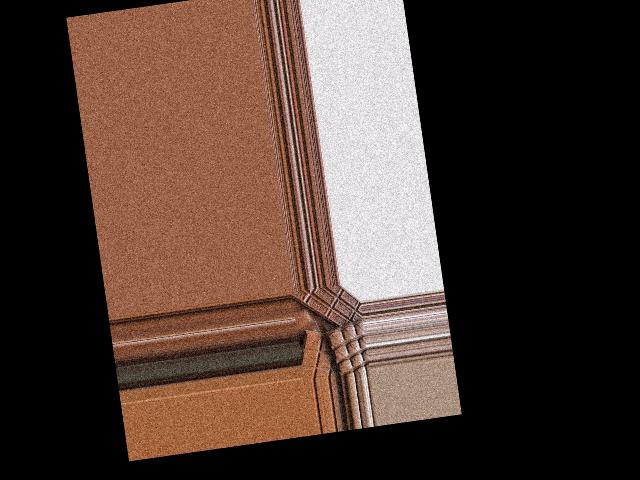chocolate: (300, 326, 346, 380)
